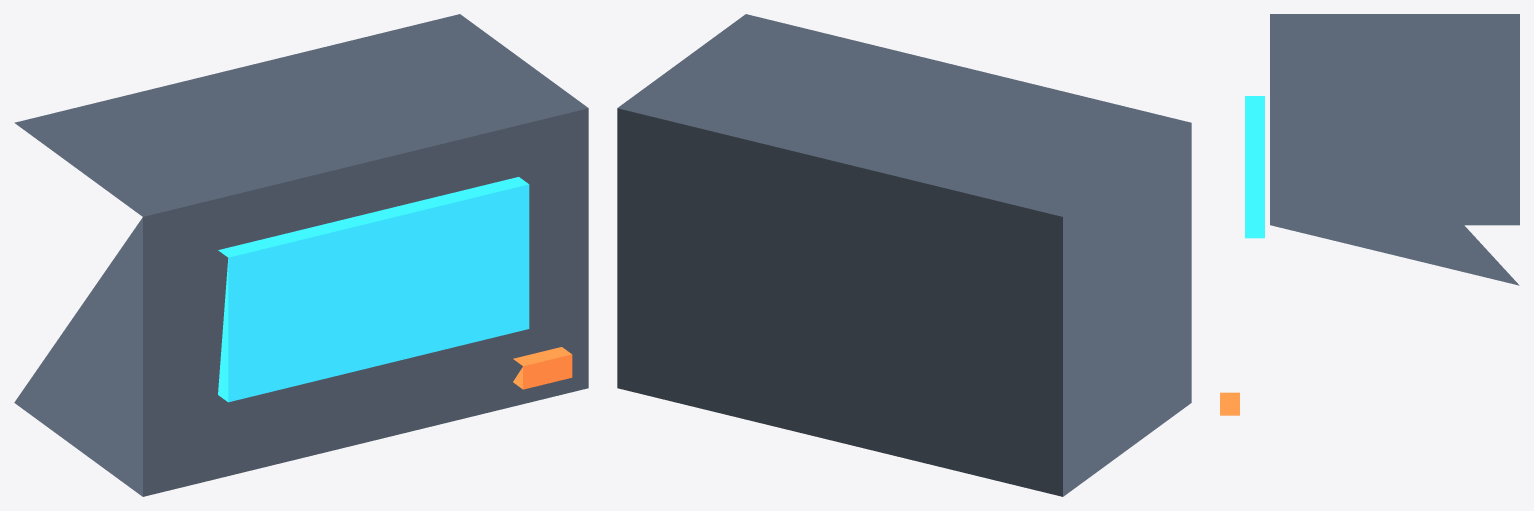
File: threejs-course-product.gltf
3 renders of one model, left to right at view 1: azimuth 30°, elevation 25°; view 2: azimuth 150°, elevation 25°; view 3: azimuth 270°, elevation 25°, orthographic. The views are drawn at different scales.
Parts seen in each view (by area): view 1: Enclosure, DisplayPanel, StatusControl; view 2: Enclosure; view 3: Enclosure, DisplayPanel, StatusControl.
Part boxes in pixels (box(x1,y1,x2,y2)): Enclosure: box(14, 14, 588, 496); DisplayPanel: box(218, 177, 529, 402); StatusControl: box(513, 347, 572, 389); Enclosure: box(617, 14, 1191, 496); Enclosure: box(1270, 14, 1519, 285); DisplayPanel: box(1245, 96, 1264, 238); StatusControl: box(1220, 392, 1239, 415).
Bounding box in the file's own units: 2 × 1.2 × 1.2.
